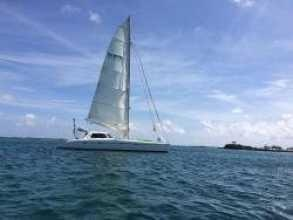fanchuan: (61, 6, 179, 152)
